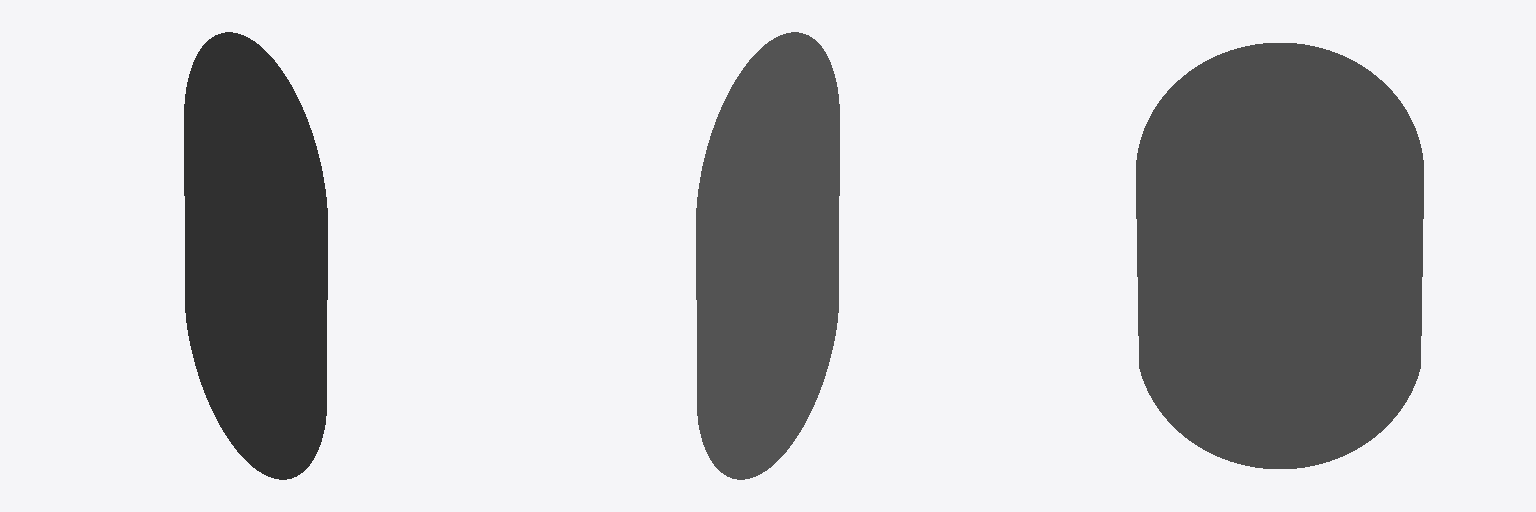
The model's file is mirror.obj.
3 views of the same model, side by side, from view 1: azimuth 30°, elevation 25°; view 2: azimuth 150°, elevation 25°; view 3: azimuth 270°, elevation 25° (orthographic).
Parts seen in each view (by area): view 1: group_22_Mirror; view 2: group_22_Mirror; view 3: group_22_Mirror.
Part boxes in pixels (left/top/right/bottom): group_22_Mirror: left=184, top=32, right=327, bottom=479; group_22_Mirror: left=696, top=32, right=839, bottom=479; group_22_Mirror: left=1136, top=43, right=1423, bottom=468.
Size of the model in its own units: 0 by 30.86 by 18.9.